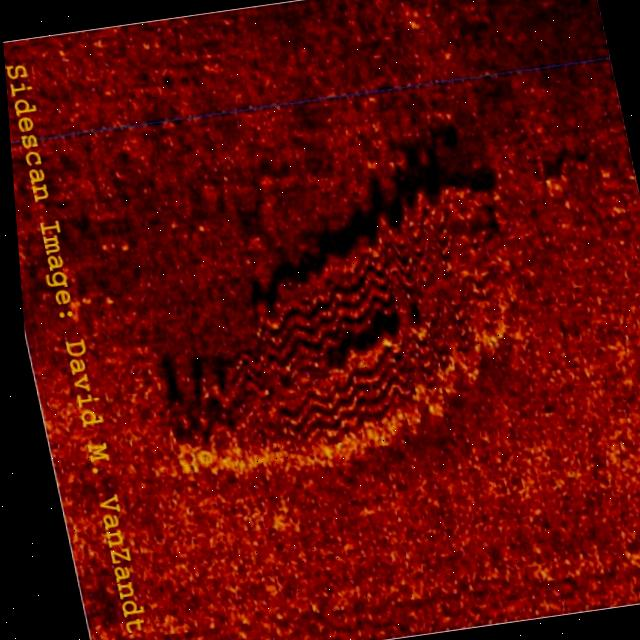shipwreck: (107, 177, 547, 496)
